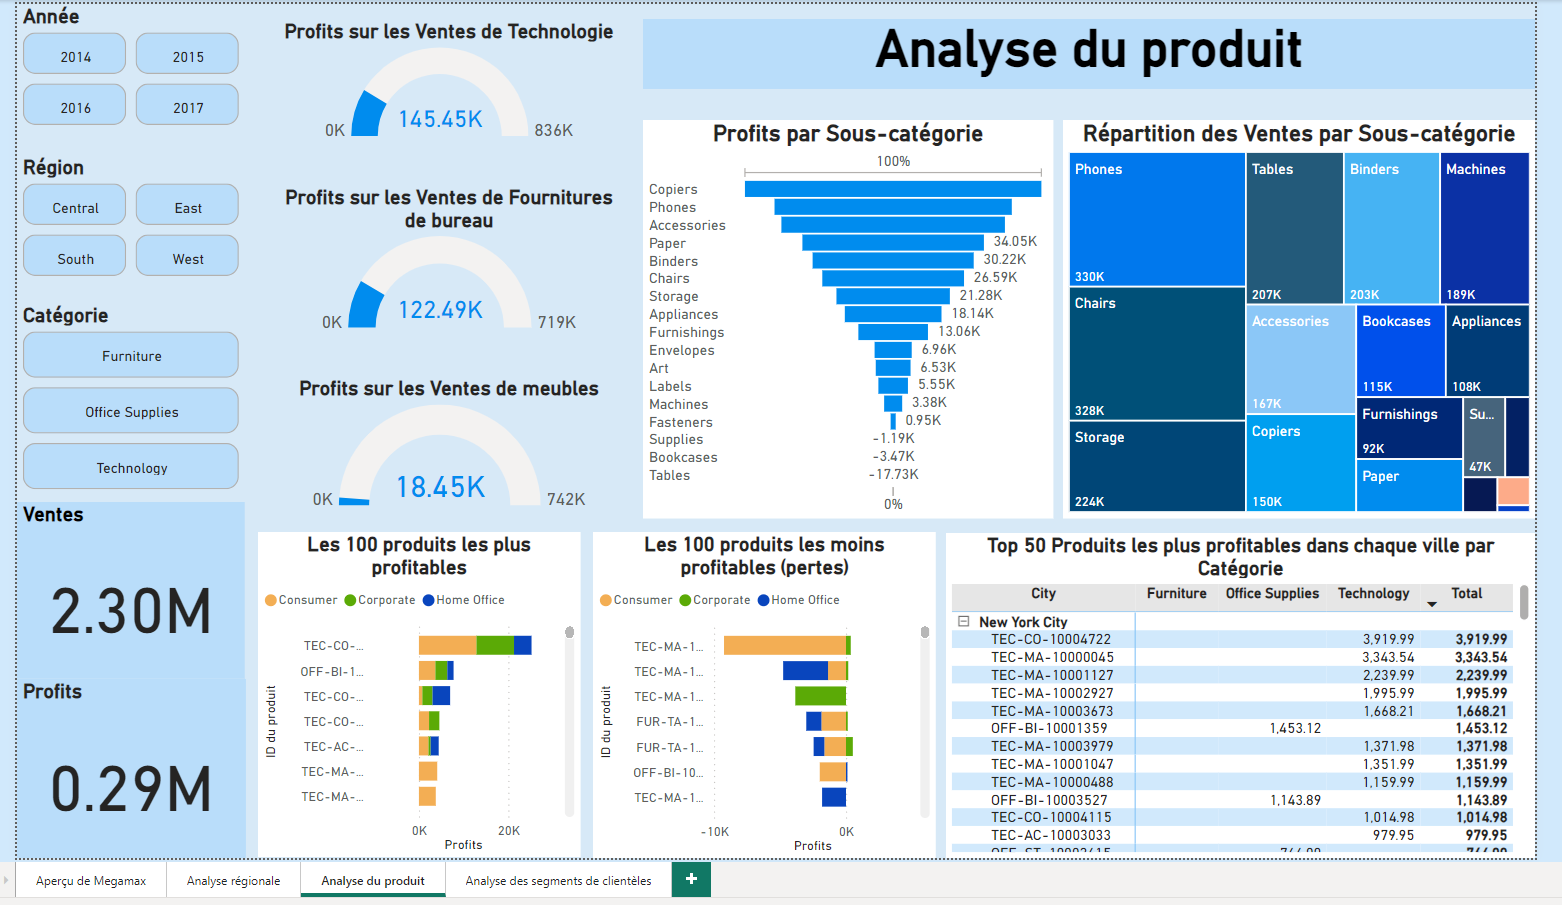

The dashboard page shown, as its layout file describes it:
{"tool":"powerbi","page":{"name":"Analyse du produit","canvas":[1280,720],"ordinal":2},"visuals":[{"type":"textbox","title":"Analyse du produit","box":[527.5,12.4,752.9,58.6],"z":0},{"type":"card","title":"Ventes","fields":{"Values":["Sum(Sample - MegaMax.Sales)"]},"box":[0,420.1,192.3,149.2],"z":1000},{"type":"card","title":"Profits","fields":{"Values":["Sum(Sample - MegaMax.Profit)"]},"box":[0,569,192.6,150.8],"z":2000},{"type":"advancedSlicerVisual","title":"Année","fields":{"Values":["Sample - MegaMax.Order Date.Variation.Date Hierarchy.Year"]},"box":[0,0,192.6,108.9],"z":3000},{"type":"funnel","title":"Profits par Sous-catégorie","fields":{"Category":["Sample - MegaMax.Sub-Category"],"Y":["Sum(Sample - MegaMax.Profit)"]},"box":[527.9,97.5,345.9,335.5],"z":4000},{"type":"gauge","title":"Profits sur les Ventes de Technologie","fields":{"MaxValue":["Sum(Sample - MegaMax.Sales)"],"Y":["Sum(Sample - MegaMax.Profit)"]},"box":[213,12.9,301.9,108.7],"z":5000},{"type":"advancedSlicerVisual","title":"Catégorie","fields":{"Values":["Sample - MegaMax.Category"]},"box":[0,251.9,192.6,162.4],"z":6000},{"type":"gauge","title":"Profits sur les Ventes de meubles","fields":{"MaxValue":["Sum(Sample - MegaMax.Sales)"],"Y":["Sum(Sample - MegaMax.Profit)"]},"box":[213,314,301.9,119],"z":7000},{"type":"gauge","title":"Profits sur les Ventes de Fournitures de bureau","fields":{"MaxValue":["Sum(Sample - MegaMax.Sales)"],"Y":["Sum(Sample - MegaMax.Profit)"]},"box":[213,152.7,301.9,130.2],"z":8000},{"type":"treemap","title":"Répartition des Ventes par Sous-catégorie","fields":{"Group":["Sample - MegaMax.Sub-Category"],"Values":["Sum(Sample - MegaMax.Sales)"]},"box":[881.5,97.5,398.5,335.5],"z":9000},{"type":"advancedSlicerVisual","title":"Région","fields":{"Values":["Sample - MegaMax.Region"]},"box":[0,127.4,192.6,108.9],"z":10000},{"type":"pivotTable","title":"Top 50 Produits les plus profitables dans chaque ville par Catégorie","fields":{"Values":["Sum(Sample - MegaMax.Profit)"],"Rows":["Sample - MegaMax.City","Sample - MegaMax.Product ID"],"Columns":["Sample - MegaMax.Category"]},"box":[783.3,446.3,497.1,273.9],"z":11000},{"type":"barChart","title":"Les 100 produits les plus profitables","fields":{"Category":["Sample - MegaMax.Product ID"],"Y":["Sum(Sample - MegaMax.Profit)"],"Series":["Sample - MegaMax.Segment"]},"box":[203.6,445.1,271.7,274.3],"z":12000},{"type":"barChart","title":"Les 100 produits les moins profitables (pertes)","fields":{"Category":["Sample - MegaMax.Product ID"],"Y":["Sum(Sample - MegaMax.Profit)"],"Series":["Sample - MegaMax.Segment"]},"box":[485.6,445.1,288.9,275.1],"z":13000}]}

Visuals, with their boxes on the page's 1280x720 design canvas (x1, y1, x2, y2). These are canvas units, not pixel positions in the 1562x905 screenshot, which may show the page scaled, cropped or inside an application window:
"Analyse du produit" textbox: left=528, top=12, right=1280, bottom=71
"Ventes" card: left=0, top=420, right=192, bottom=569
"Profits" card: left=0, top=569, right=193, bottom=720
"Année" advancedSlicerVisual: left=0, top=0, right=193, bottom=109
"Profits par Sous-catégorie" funnel: left=528, top=98, right=874, bottom=433
"Profits sur les Ventes de Technologie" gauge: left=213, top=13, right=515, bottom=122
"Catégorie" advancedSlicerVisual: left=0, top=252, right=193, bottom=414
"Profits sur les Ventes de meubles" gauge: left=213, top=314, right=515, bottom=433
"Profits sur les Ventes de Fournitures de bureau" gauge: left=213, top=153, right=515, bottom=283
"Répartition des Ventes par Sous-catégorie" treemap: left=882, top=98, right=1280, bottom=433
"Région" advancedSlicerVisual: left=0, top=127, right=193, bottom=236
"Top 50 Produits les plus profitables dans chaque ville par Catégorie" pivotTable: left=783, top=446, right=1280, bottom=720
"Les 100 produits les plus profitables" barChart: left=204, top=445, right=475, bottom=719
"Les 100 produits les moins profitables (pertes)" barChart: left=486, top=445, right=774, bottom=720
